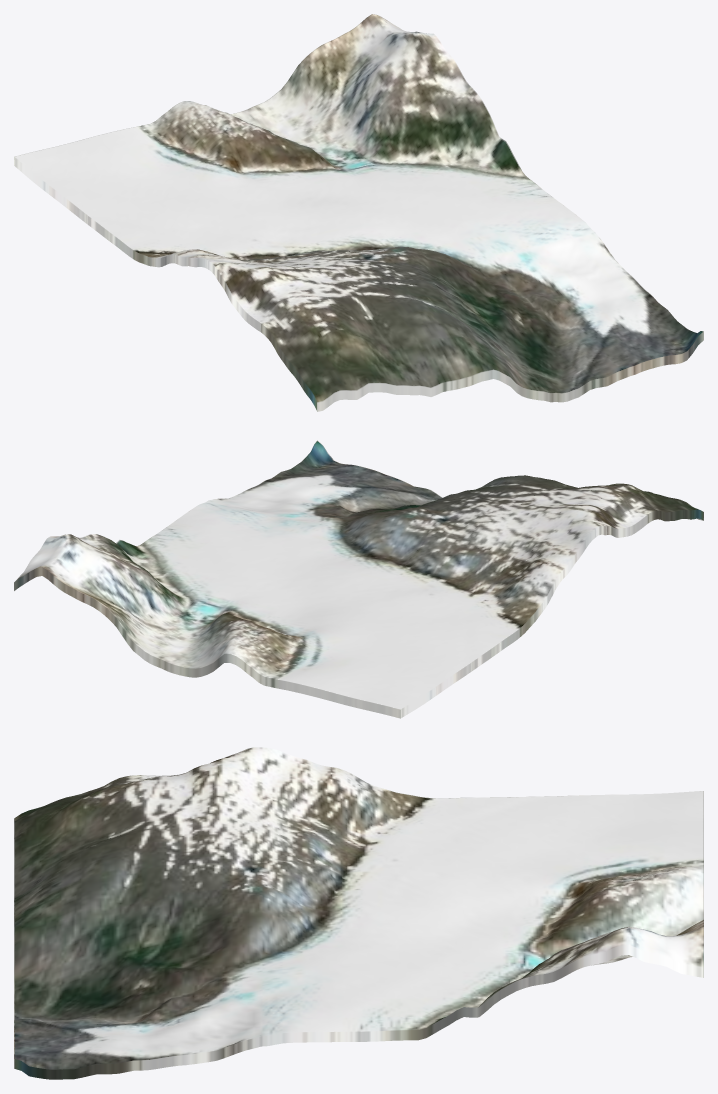
3 views of the same model, one above another, from view 1: azimuth 30°, elevation 25°; view 2: azimuth 150°, elevation 25°; view 3: azimuth 270°, elevation 25° (orthographic). The views are drawn at different scales.
Parts seen in each view (by area): view 1: tile; view 2: tile; view 3: tile.
Boxes of the visible parts, x1,y1,x2,y2 form: tile: (14,14,703,411); tile: (14,440,703,718); tile: (14,747,703,1079).
Bounding box in the file's own units: 4050 × 1430 × 5505.
1 material, 1 textured.
